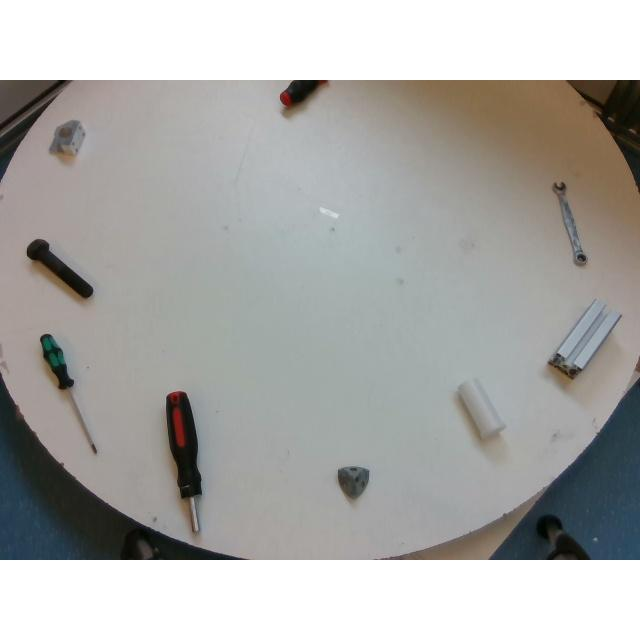M20_100: (26, 239, 94, 297)
S40_40_G: (548, 299, 620, 376)
Screwdriver: (40, 333, 96, 453)
Spacer: (457, 378, 505, 438)
Wrench: (553, 182, 587, 266)
